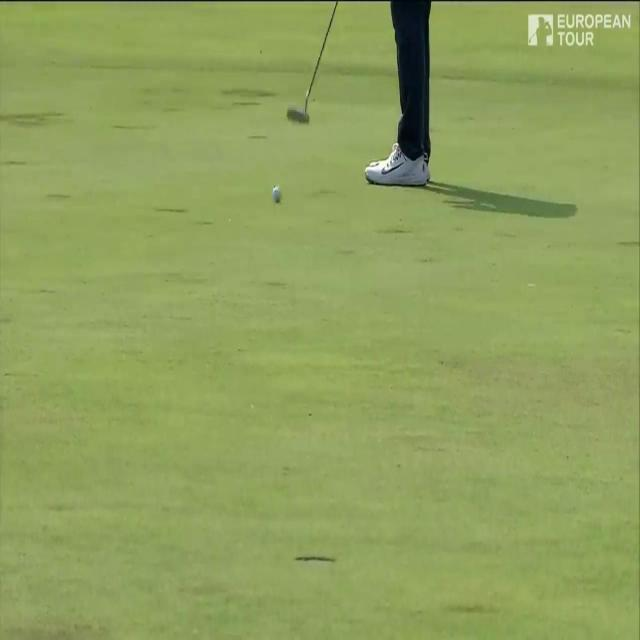ClubHead: (277, 68, 324, 137)
GolfBall: (266, 177, 285, 214)
